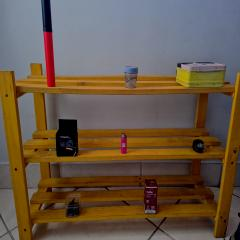bomba: (42, 0, 56, 90)
cx-bike: (56, 118, 78, 157)
cx-ferro: (144, 180, 158, 213)
cx-magali: (176, 62, 226, 89)
cx-xuxa: (66, 193, 80, 219)
isqueiro: (120, 132, 127, 156)
luz: (193, 139, 204, 155)
pote: (124, 66, 138, 89)
